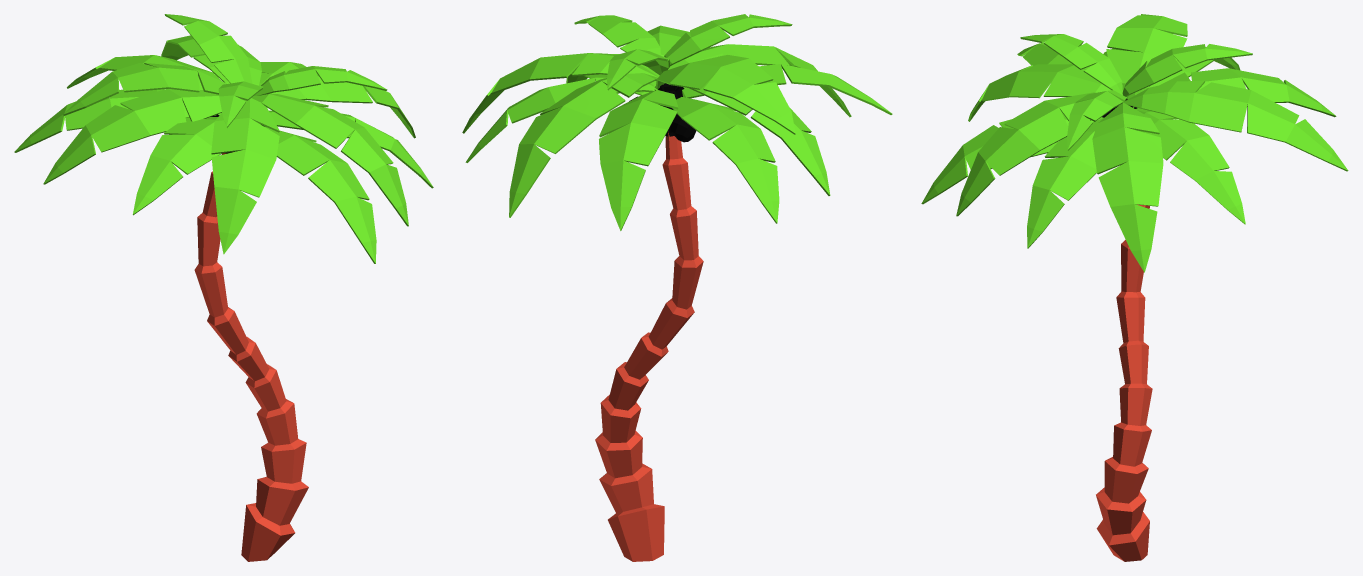
File: Palm_2.fbx
3 renders of one model, left to right at view 1: azimuth 30°, elevation 25°; view 2: azimuth 150°, elevation 25°; view 3: azimuth 270°, elevation 25°, orthographic. The views are drawn at different scales.
Parts seen in each view (by area): view 1: Palm_2; view 2: Palm_2; view 3: Palm_2.
Part boxes in pixels (box(x1,y1,x2,y2)): Palm_2: box(14, 14, 433, 561); Palm_2: box(462, 14, 892, 561); Palm_2: box(921, 14, 1348, 561).
Size of the model in its own units: 3.87 by 5.2 by 4.06.
